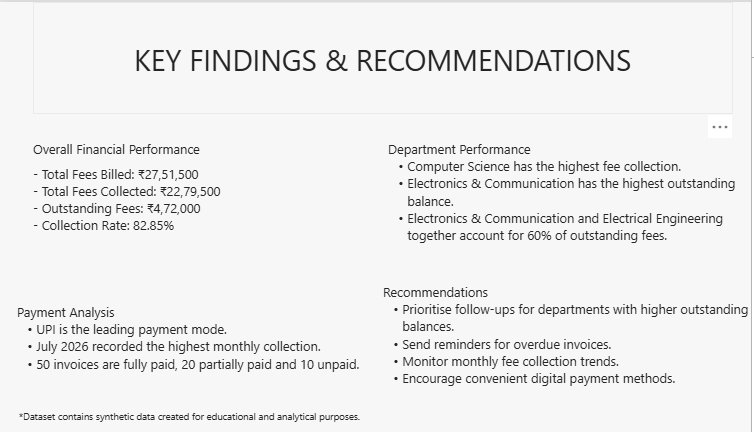

The page's visual inventory and layout, read from the dashboard file:
{"tool":"powerbi","page":{"name":"Key Findings & Recommendations","canvas":[1920,1080],"ordinal":3},"visuals":[{"type":"textbox","box":[10,0,280,280],"z":0},{"type":"textbox","box":[10,290,280,280],"z":1},{"type":"textbox","box":[85.7,345.2,675.3,262],"z":2},{"type":"textbox","box":[10,870,280,210],"z":3},{"type":"textbox","box":[972.6,345.2,902,289.8],"z":4},{"type":"textbox","box":[45.4,753.4,876.9,216.7],"z":5},{"type":"textbox","box":[960,703,924.7,317.5],"z":6},{"type":"textbox","box":[85.7,0,1748.7,279.7],"z":7},{"type":"textbox","box":[50.4,1020.5,909.6,50.4],"z":8}]}

Visuals, with their boxes in screenshot pixels (x1, y1, x2, y2), scaled from the page's 1920x1080 canvas onto the 754x432 screenshot:
textbox: box(4, 0, 114, 112)
textbox: box(4, 116, 114, 228)
textbox: box(34, 138, 299, 243)
textbox: box(4, 348, 114, 431)
textbox: box(382, 138, 736, 254)
textbox: box(18, 301, 362, 388)
textbox: box(377, 281, 740, 408)
textbox: box(34, 0, 720, 112)
textbox: box(20, 408, 377, 428)
